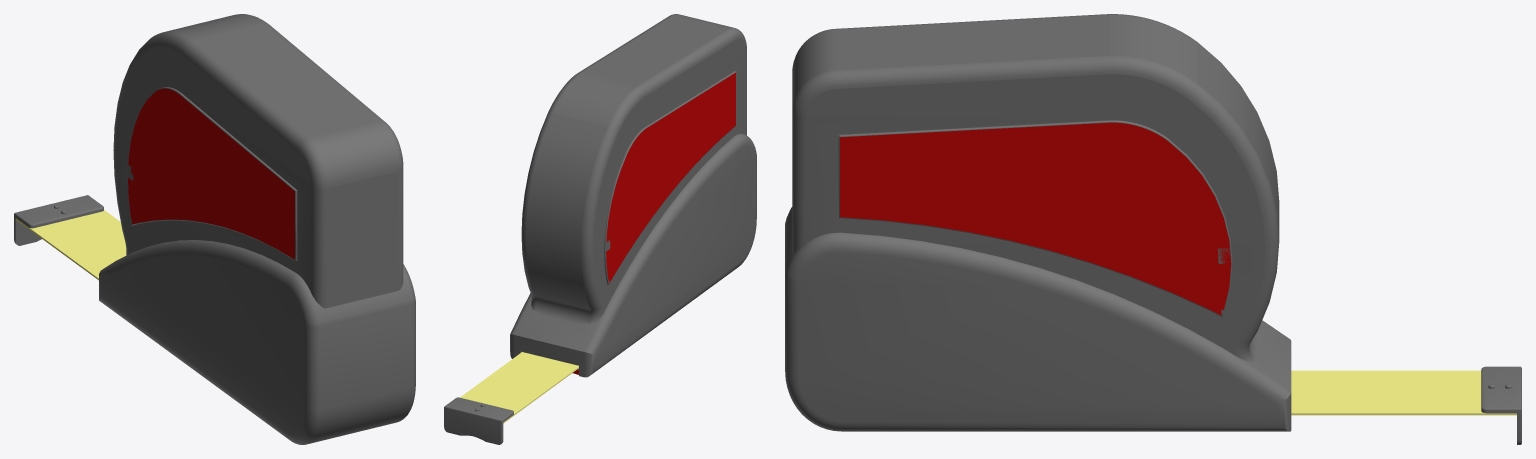
The model's file is Measuring Tape.fbx.
3 renders of one model, left to right at view 1: azimuth 30°, elevation 25°; view 2: azimuth 150°, elevation 25°; view 3: azimuth 270°, elevation 25°, orthographic. The views are drawn at different scales.
Parts seen in each view (by area): view 1: Group_001, Group_002, Group_004, Group_006, Group_005; view 2: Group_002, Group_001, Group_006, Group_004, Group_005; view 3: Group_005, Group_006, Group_008, Group_002, Group_001.
Boxes of the visible parts, x1,y1,x2,y2 form: Group_001: (14,204,365,444); Group_002: (113,23,362,308); Group_004: (128,88,294,259); Group_006: (200,14,403,299); Group_005: (52,195,415,432); Group_002: (553,21,746,325); Group_001: (473,133,756,444); Group_006: (521,14,705,319); Group_004: (606,72,735,282); Group_005: (444,293,560,436); Group_005: (785,232,1521,444); Group_006: (792,35,1279,361); Group_008: (840,122,1231,315); Group_002: (792,14,1279,344); Group_001: (785,207,1521,391).
Size of the model in its own units: 18.43 by 53.69 by 91.8.
